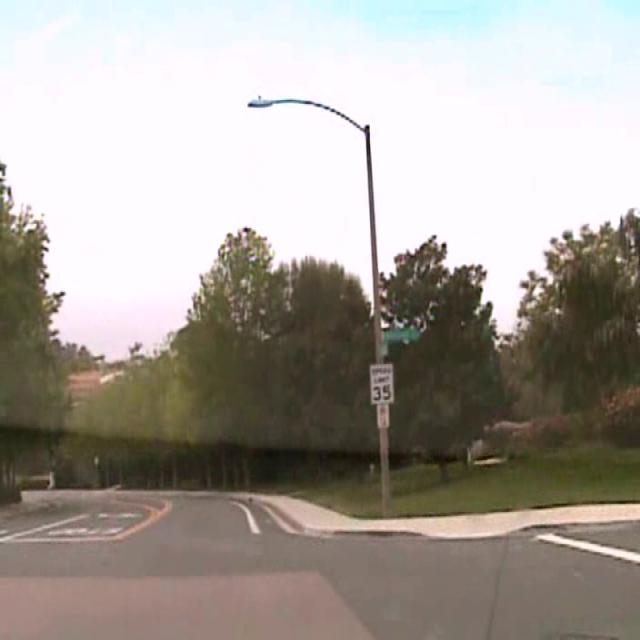speedLimit35: (369, 362, 395, 406)
